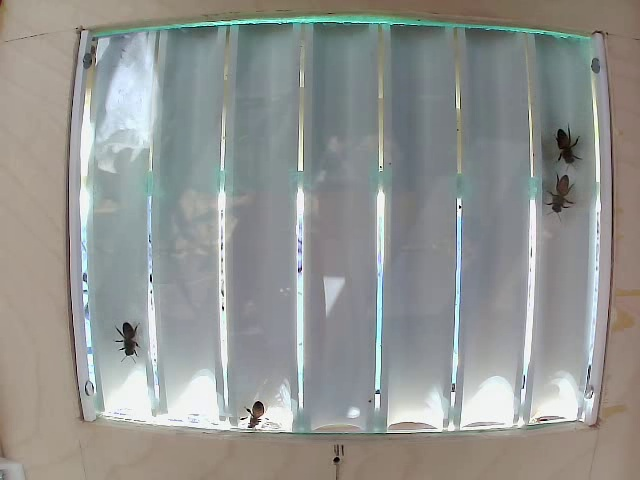bee: (230, 382, 278, 432), (547, 121, 579, 175), (548, 169, 580, 222), (114, 319, 143, 350)
